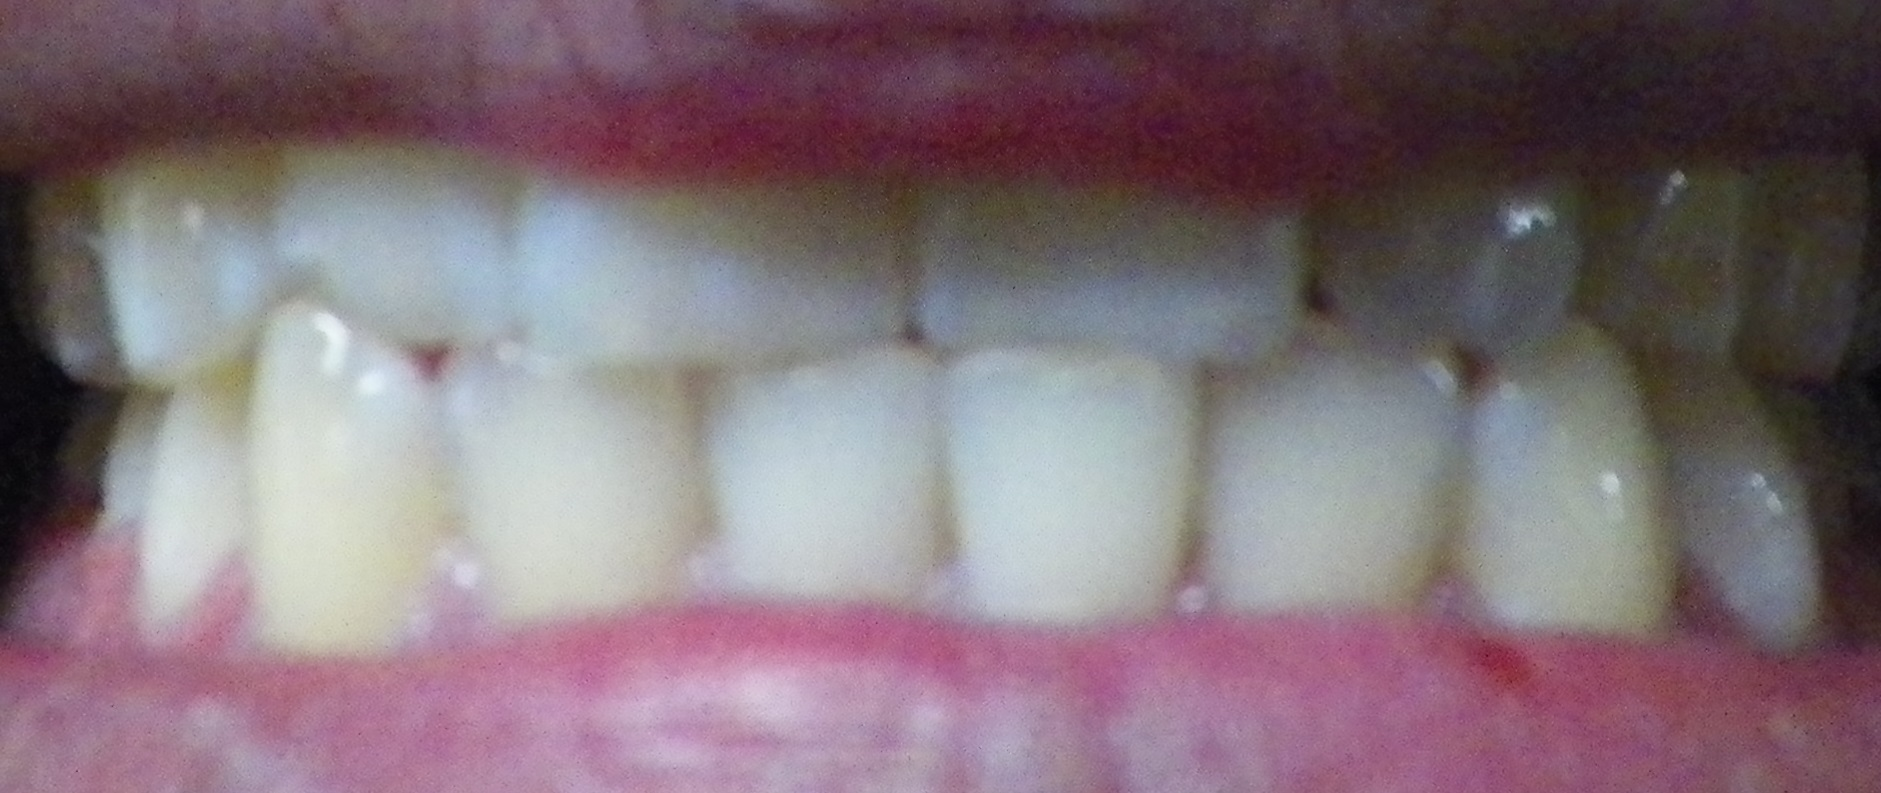boca: (35, 130, 1869, 639)
